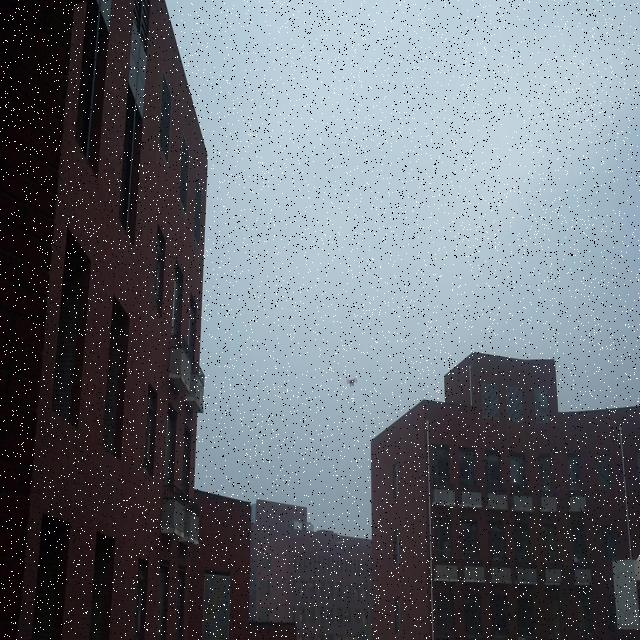UAV: (346, 378, 358, 387)
